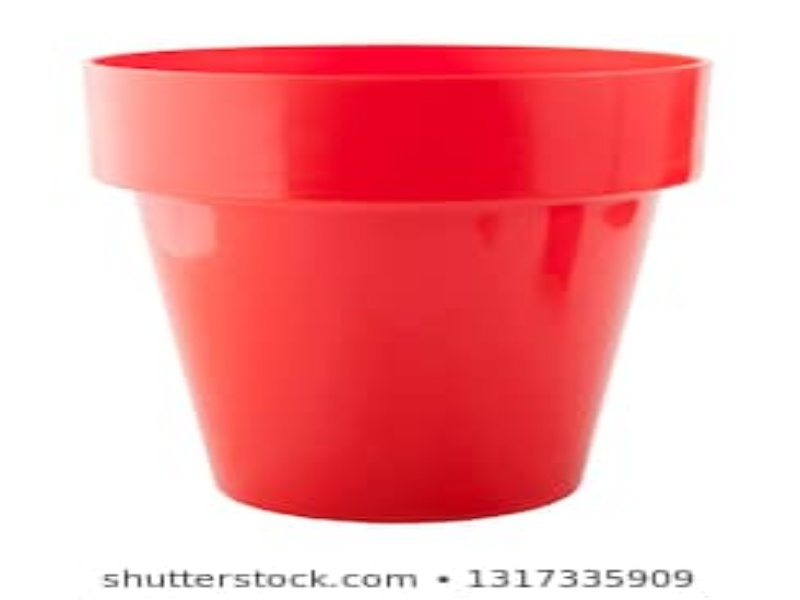plastic-cup: (79, 39, 670, 520)
